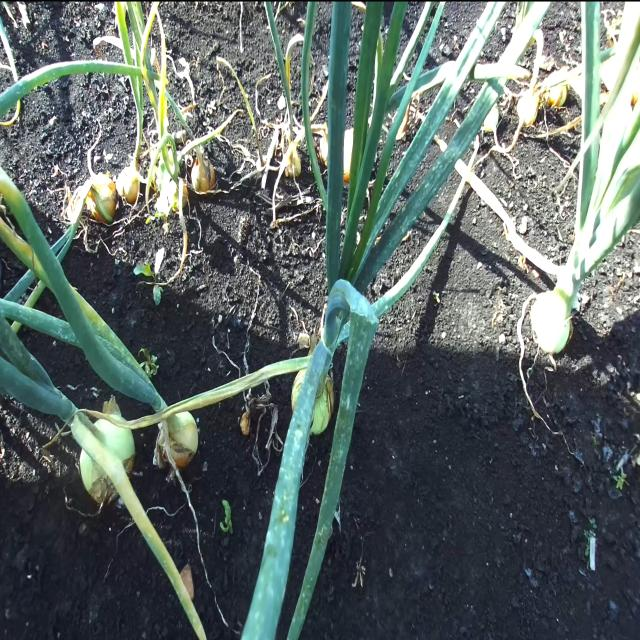onion: (78, 414, 136, 508), (291, 366, 334, 437), (154, 409, 198, 471), (86, 177, 118, 225), (190, 153, 216, 194), (116, 165, 140, 206)
